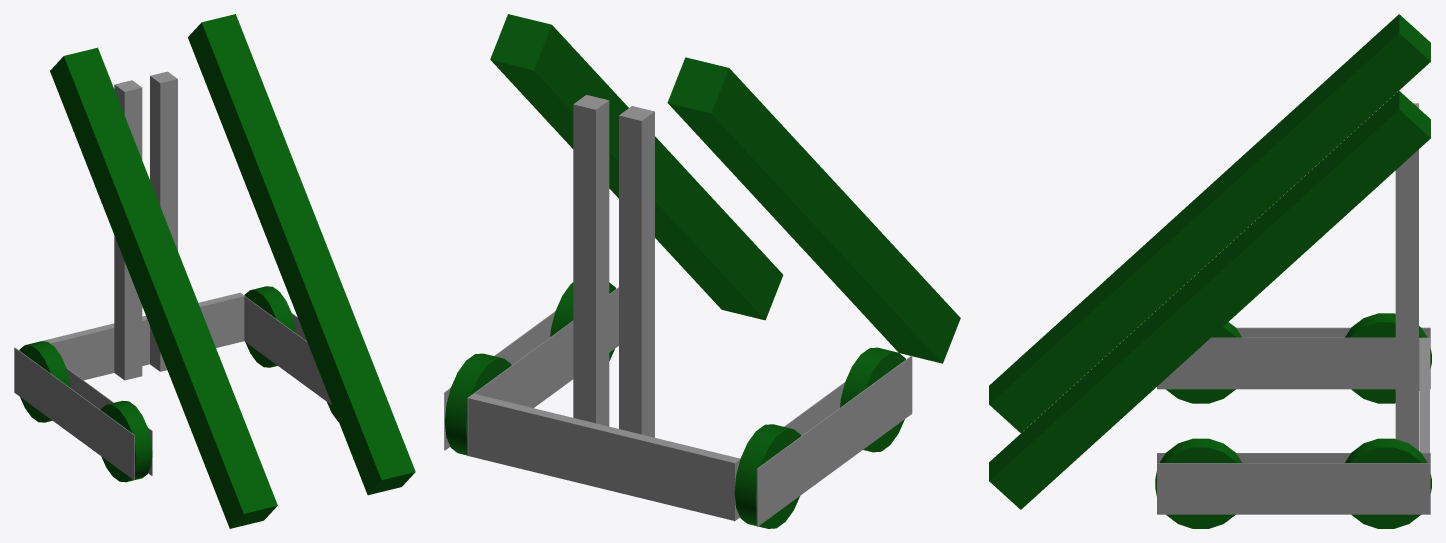
The model's file is ebot.fbx.
3 renders of one model, left to right at view 1: azimuth 30°, elevation 25°; view 2: azimuth 150°, elevation 25°; view 3: azimuth 270°, elevation 25°, orthographic. The views are drawn at different scales.
Parts seen in each view (by area): view 1: Box009, Box008, Box004, Box002, Box006, Box007, Box005, Cylinder003, Cylinder002, Cylinder004, Box001; view 2: Box008, Box009, Box002, Box006, Box007, Box004, Box005, Cylinder004, Cylinder002, Cylinder003, Box003, Box001 (+1 smaller); view 3: Box008, Box009, Box003, Box001, Box006, Cylinder001, Cylinder002, Cylinder004, Box002, Box004, Box005, Cylinder003.
Part boxes in pixels (x1,y1,x2,y2): Box009: [188, 14, 415, 495]; Box008: [50, 47, 277, 528]; Box004: [14, 347, 134, 480]; Box002: [41, 292, 244, 380]; Box006: [150, 71, 177, 371]; Box007: [114, 80, 142, 380]; Box005: [244, 296, 332, 405]; Cylinder003: [100, 400, 152, 482]; Cylinder002: [244, 286, 295, 367]; Cylinder004: [19, 341, 70, 422]; Box001: [66, 368, 152, 475]; Box008: [667, 57, 960, 363]; Box009: [490, 14, 783, 320]; Box002: [468, 393, 739, 520]; Box006: [573, 95, 609, 426]; Box007: [619, 106, 654, 437]; Box004: [756, 355, 912, 526]; Box005: [467, 287, 618, 455]; Cylinder004: [734, 424, 801, 528]; Cylinder002: [444, 353, 511, 455]; Cylinder003: [840, 347, 905, 452]; Box003: [444, 311, 555, 450]; Box001: [734, 382, 844, 521]; Box008: [989, 14, 1430, 432]; Box009: [989, 91, 1430, 509]; Box003: [1157, 463, 1430, 514]; Box001: [1157, 337, 1430, 389]; Box006: [1395, 149, 1418, 450]; Cylinder001: [1155, 438, 1241, 528]; Cylinder002: [1345, 438, 1431, 528]; Cylinder004: [1345, 313, 1431, 403]; Box002: [1419, 337, 1429, 462]; Box004: [1236, 327, 1430, 337]; Box005: [1157, 453, 1430, 462]; Cylinder003: [1166, 322, 1241, 403].
Bounding box in the file's own units: 0.3571 × 0.4921 × 0.4931.
